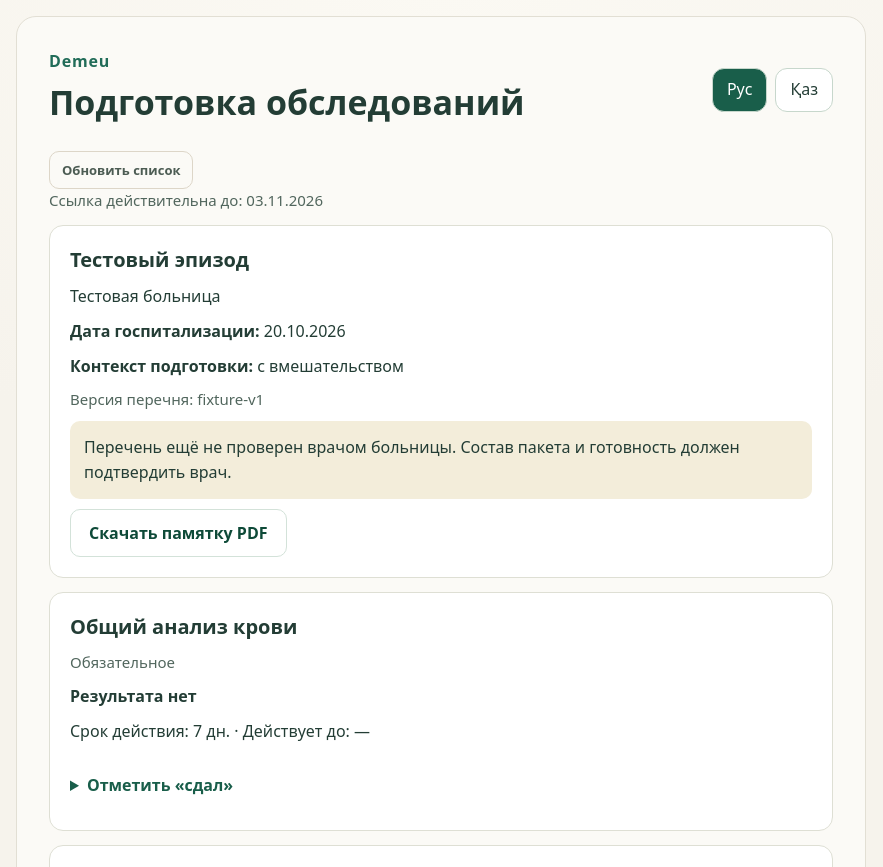
Scenario: patient package usable states › renders RU/KK checklist, honest validation, conditional lock and locale PDF without clinical data
Click the button "Қаз": click(804, 90) 776,68 -> 833,112
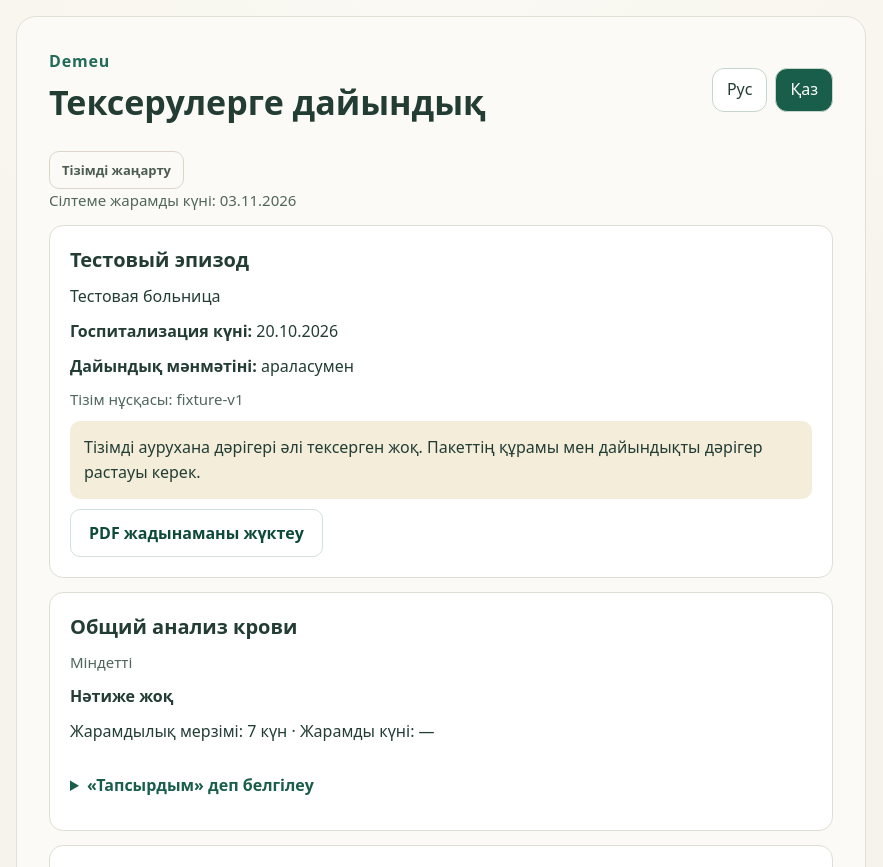
Now the text "Тексерулерге дайындық" is shown, box 49,82 -> 486,123
